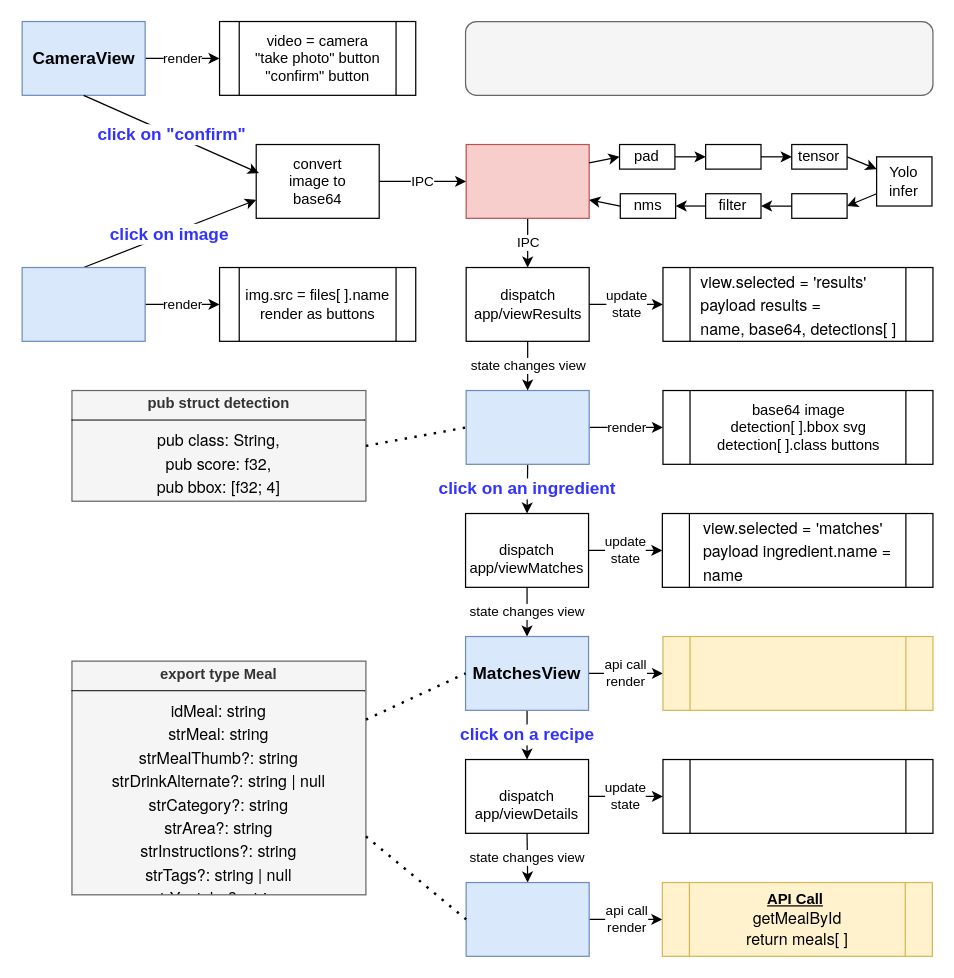
This 954x978 diagram has some shape labels left out. Here are the shapes that lost their labels. From the top down, the centre of each, then its label:
the point at 698,57: Classifi-cam Process Flow
the point at 732,156: scale
the point at 527,180: invoke infer
the point at 819,205: resize
the point at 83,303: LibraryView
the point at 527,426: ResultsView
the point at 797,672: API Call getMealsByIngredient return meals[ ]
the point at 797,795: view.selected = 'details' payload id = { id }
the point at 527,918: DetailsView
